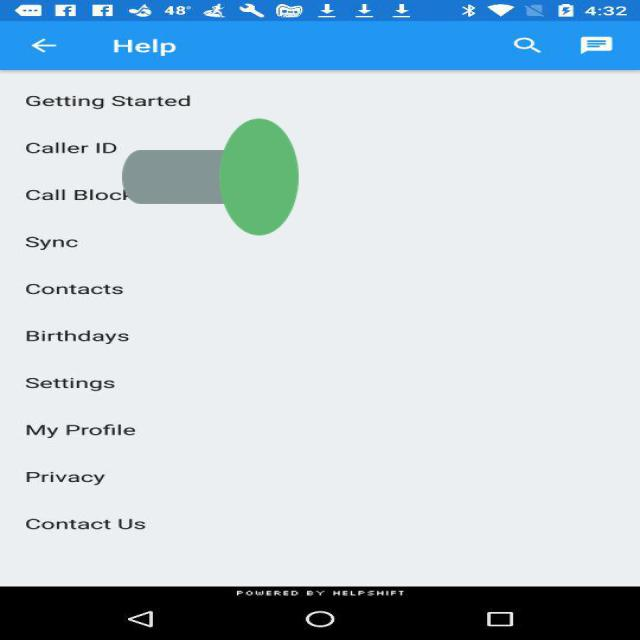social proof: (122, 47, 299, 307)
